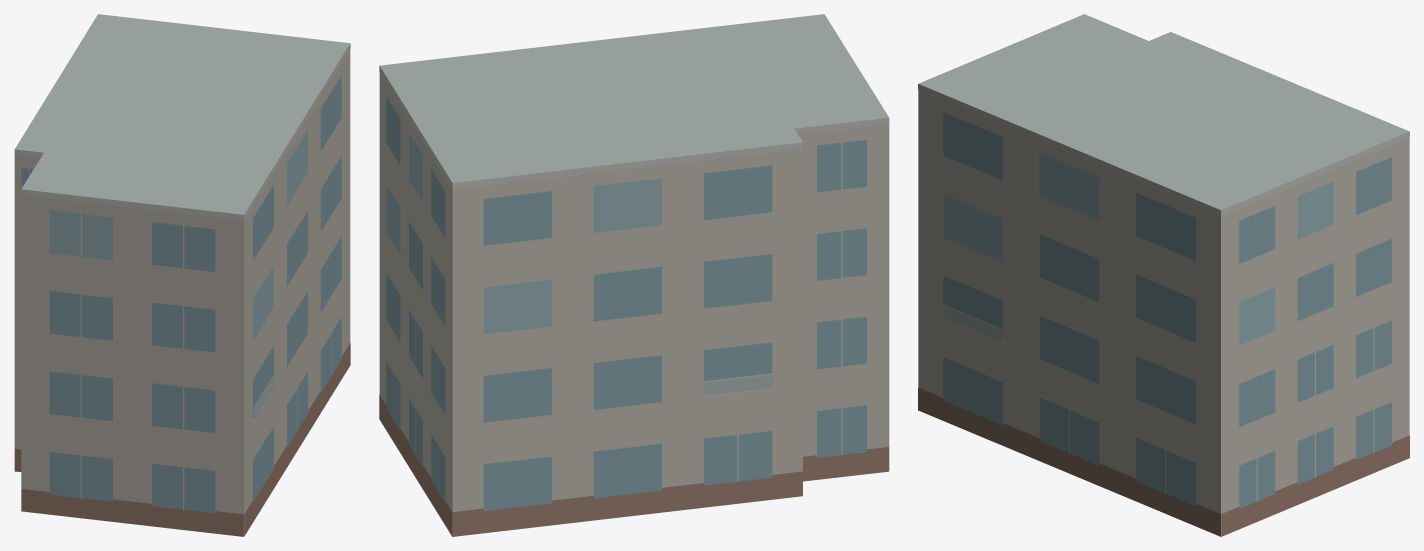
File: survey-upis-32976895.glb
The picture shows the model from 3 angles, left to right: view 1: azimuth 30°, elevation 25°; view 2: azimuth 150°, elevation 25°; view 3: azimuth 270°, elevation 25°; orthographic projection. The views are drawn at different scales.
Parts seen in each view (by area): view 1: survey-upis-32976895.tmp; view 2: survey-upis-32976895.tmp; view 3: survey-upis-32976895.tmp.
Part boxes in pixels (box(x1,y1,x2,y2)): survey-upis-32976895.tmp: box(14, 14, 350, 536); survey-upis-32976895.tmp: box(379, 14, 889, 536); survey-upis-32976895.tmp: box(918, 14, 1409, 536).
Size of the model in its own units: 17.02 by 13.2 by 18.01.
